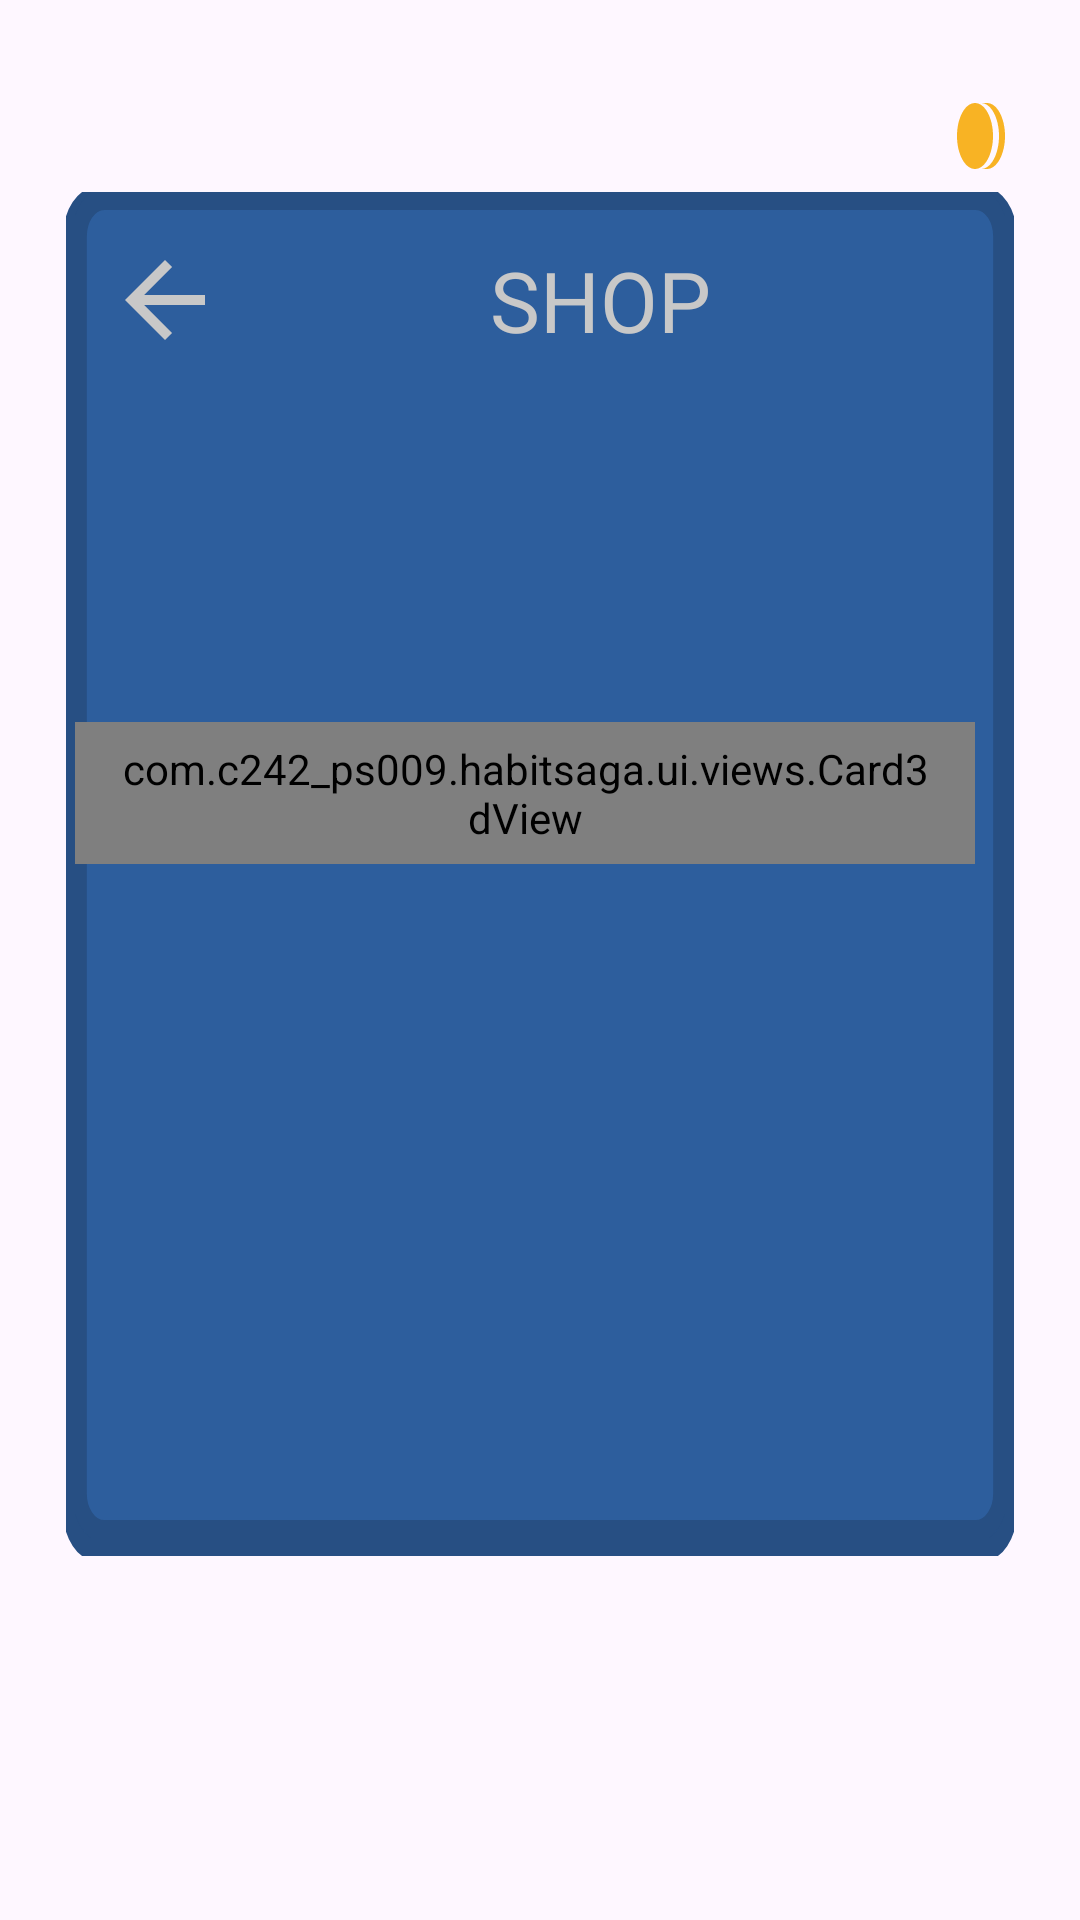

Icons on this 1080 x 1920 Android screen, each with its box as (x1, y1, x2, y2):
back: (125, 260, 205, 340)
